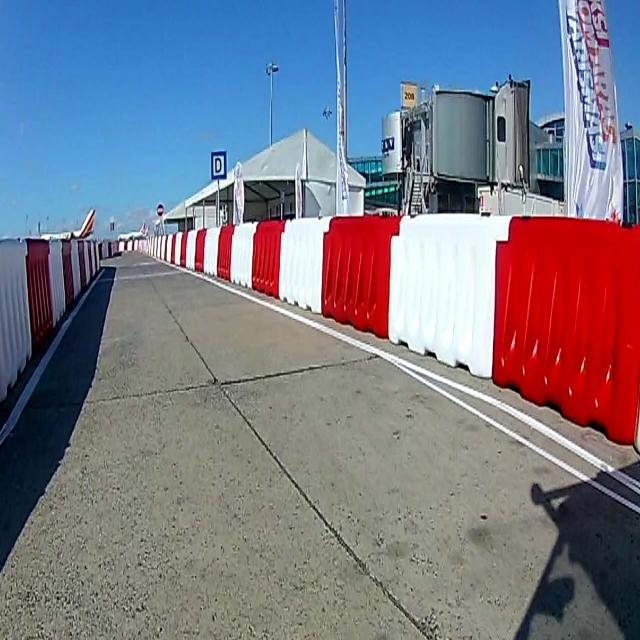durak: (210, 151, 228, 180)
girisyok: (156, 204, 164, 218)
